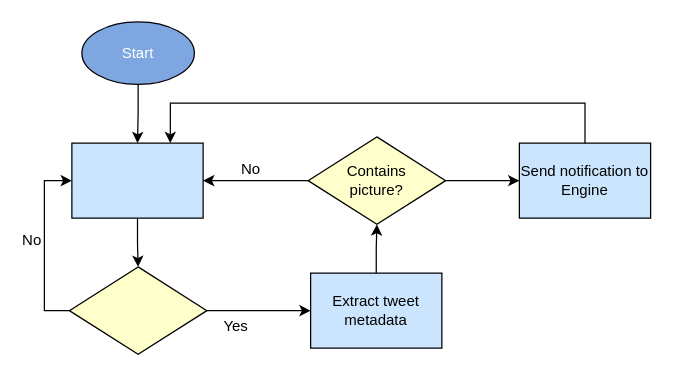
Some shapes in this 673 by 376 pixel diagram are drawn without their labels. Each missing label, with the centre of its shape:
"Listen for new #mosaicme tweets" belongs at (x=137, y=180).
"New tweet?" belongs at (x=137, y=310).
